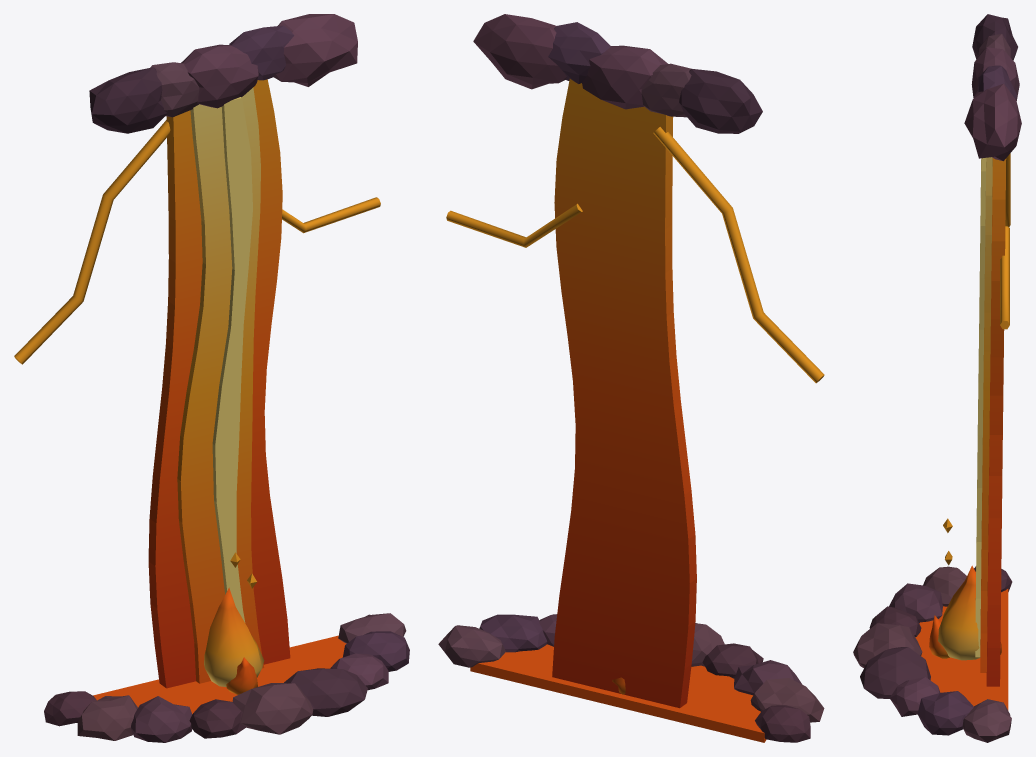
Rendered from overlay_2.fbx.
3 renders of one model, left to right at view 1: azimuth 30°, elevation 25°; view 2: azimuth 150°, elevation 25°; view 3: azimuth 270°, elevation 25°, orthographic. The views are drawn at different scales.
Visible parts, largest first — view 1: overlay_2; view 2: overlay_2; view 3: overlay_2.
Part boxes in pixels (x1,y1,x2,y2): overlay_2: (14,14,409,742); overlay_2: (438,14,824,742); overlay_2: (853,14,1021,742).
Size of the model in its own units: 2.52 by 4.09 by 1.02.
